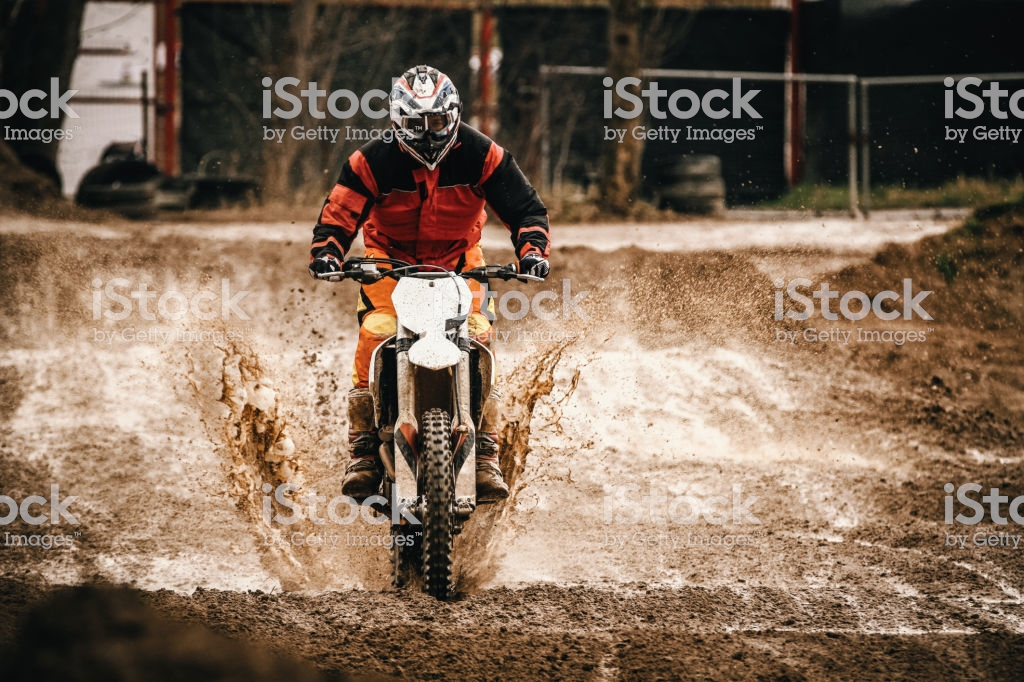helmet: (384, 67, 470, 161)
